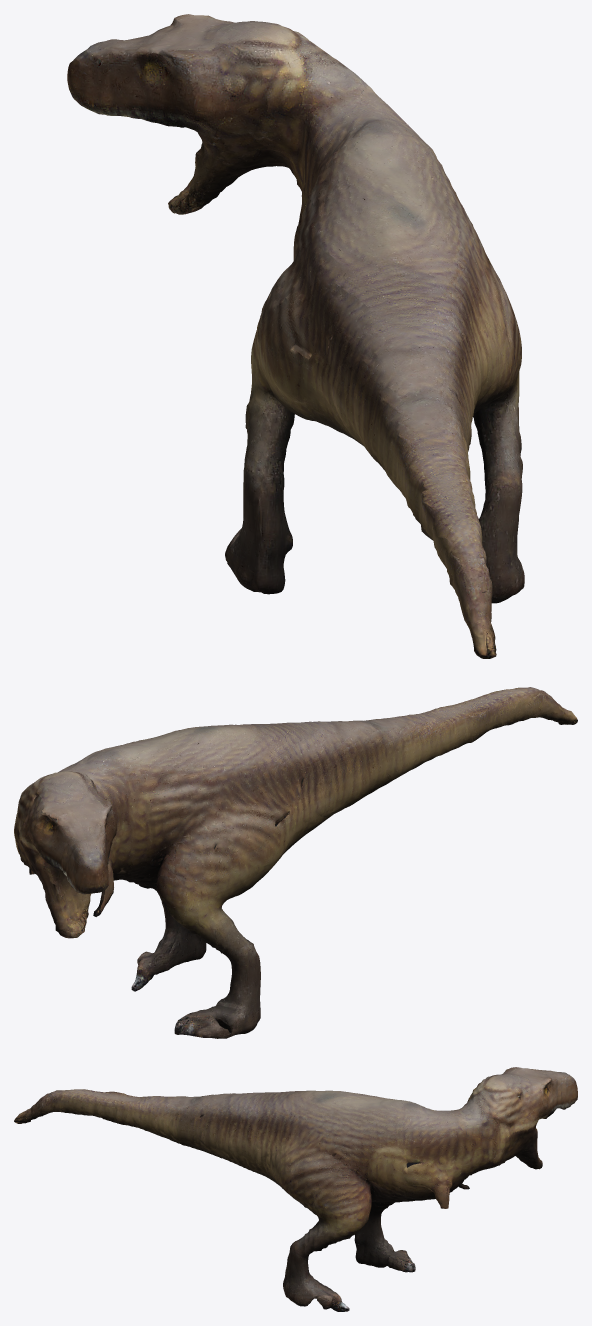
Rendered from theropod.glb.
3 renders of one model, top to bottom at view 1: azimuth 30°, elevation 25°; view 2: azimuth 150°, elevation 25°; view 3: azimuth 270°, elevation 25°, orthographic. The views are drawn at different scales.
Visible parts, largest first — view 1: theropod; view 2: theropod; view 3: theropod.
Part boxes in pixels (x1=…): theropod: x1=67, y1=14, x2=524, y2=658; theropod: x1=14, y1=687, x2=577, y2=1038; theropod: x1=14, y1=1067, x2=577, y2=1311.
Bounding box in the file's own units: 0.7158 × 0.8099 × 1.88.
1 material, 1 textured.
